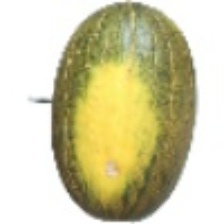honeydew: (38, 23, 181, 199)
